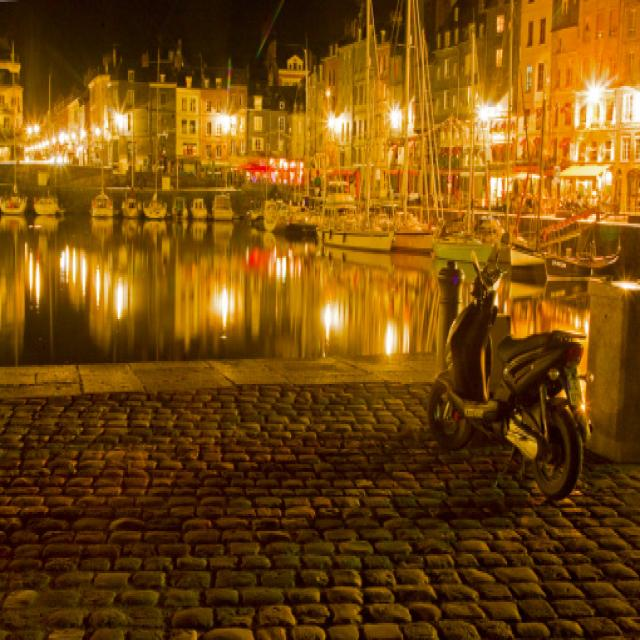Car: (425, 266, 605, 510)
Motorbike: (426, 267, 604, 518)
